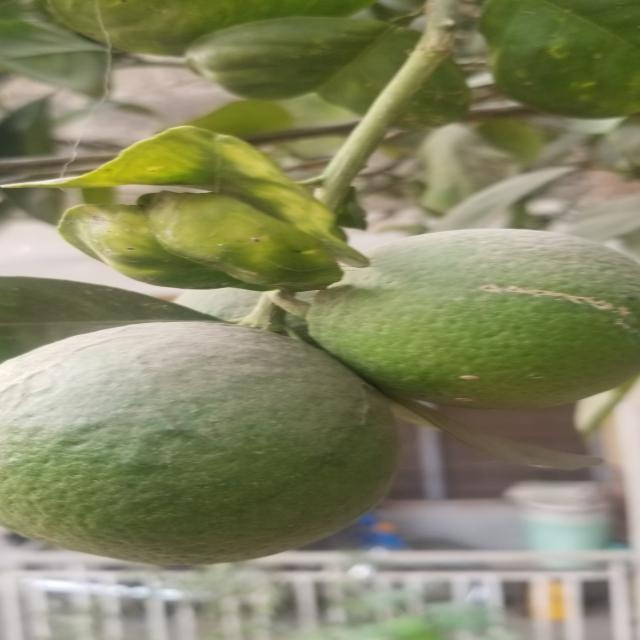agrume: (3, 318, 438, 576), (320, 222, 640, 418)
